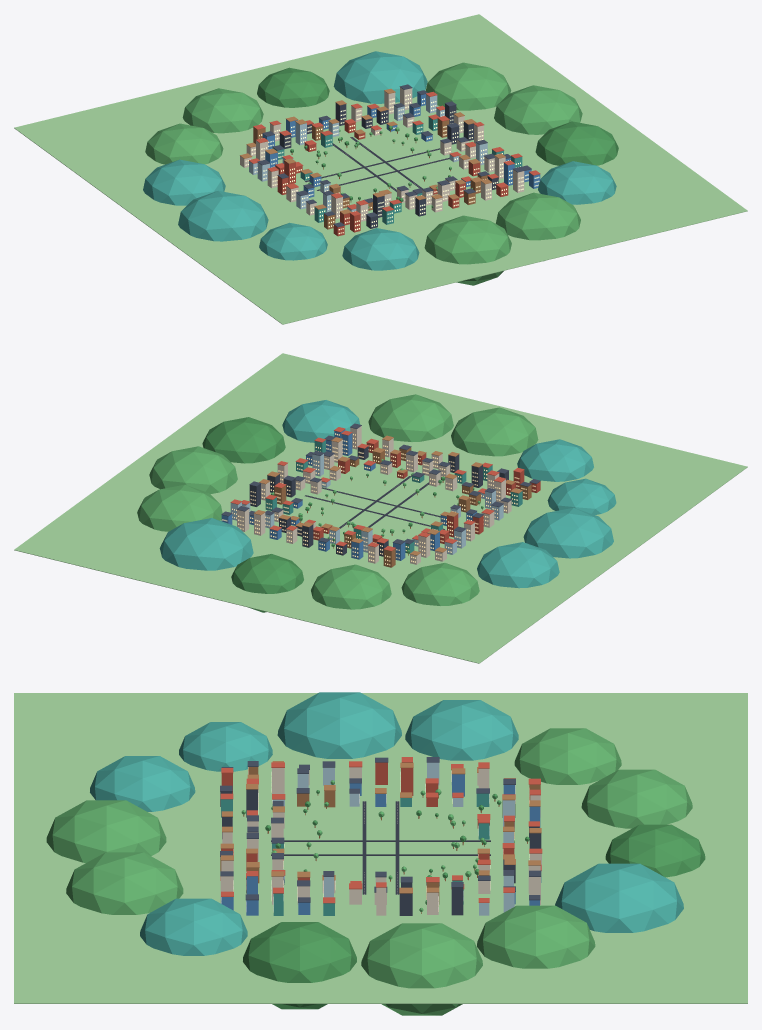
File: city_backdrop.glb
The picture shows the model from 3 angles, top to bottom: view 1: azimuth 30°, elevation 25°; view 2: azimuth 150°, elevation 25°; view 3: azimuth 270°, elevation 25°; orthographic projection. The views are drawn at different scales.
Parts seen in each view (by area): view 1: city_backdrop; view 2: city_backdrop; view 3: city_backdrop.
Part boxes in pixels (<box>): city_backdrop: <box>14,14,747,324</box>; city_backdrop: <box>14,353,747,663</box>; city_backdrop: <box>14,692,747,1015</box>.
Size of the model in its own units: 400 by 51.81 by 400.
